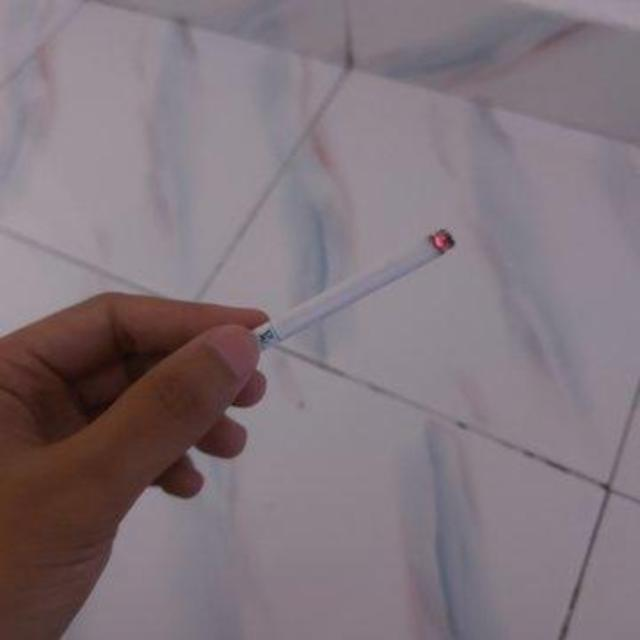rokok: (220, 226, 460, 356)
